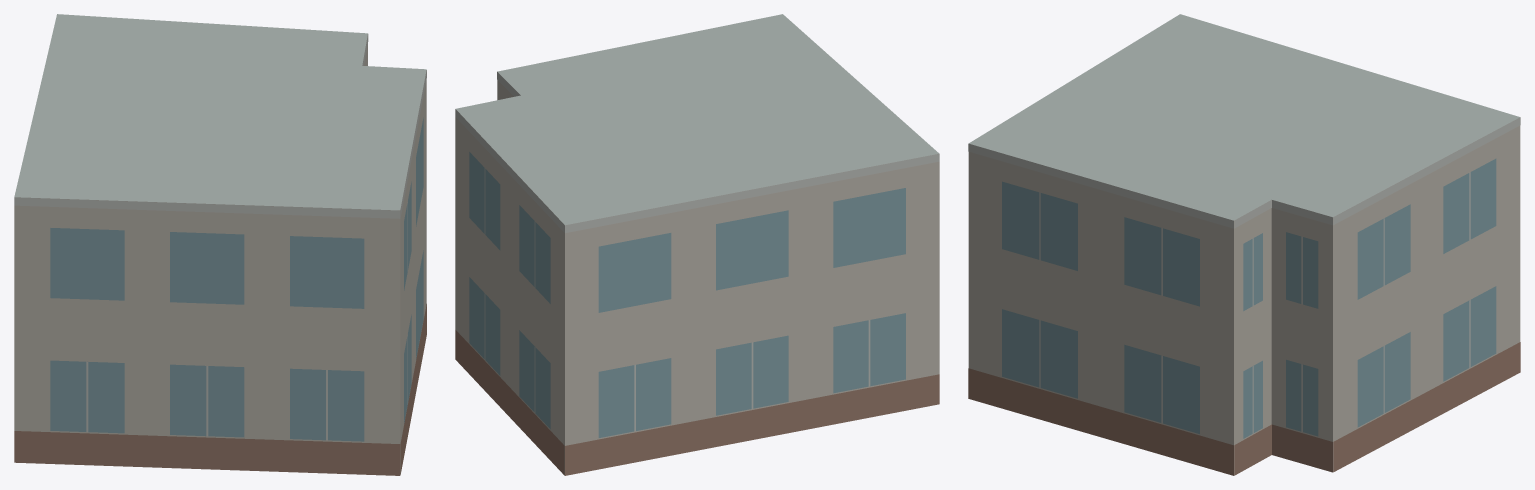
File: survey-upis-33037963.glb
3 renders of one model, left to right at view 1: azimuth 30°, elevation 25°; view 2: azimuth 150°, elevation 25°; view 3: azimuth 270°, elevation 25°, orthographic. The views are drawn at different scales.
Parts seen in each view (by area): view 1: survey-upis-33037963.tmp; view 2: survey-upis-33037963.tmp; view 3: survey-upis-33037963.tmp.
Boxes of the visible parts, x1,y1,x2,y2 form: survey-upis-33037963.tmp: (14, 14, 426, 475); survey-upis-33037963.tmp: (455, 14, 939, 475); survey-upis-33037963.tmp: (968, 14, 1520, 475).
Size of the model in its own units: 13.38 by 7.7 by 15.1.
